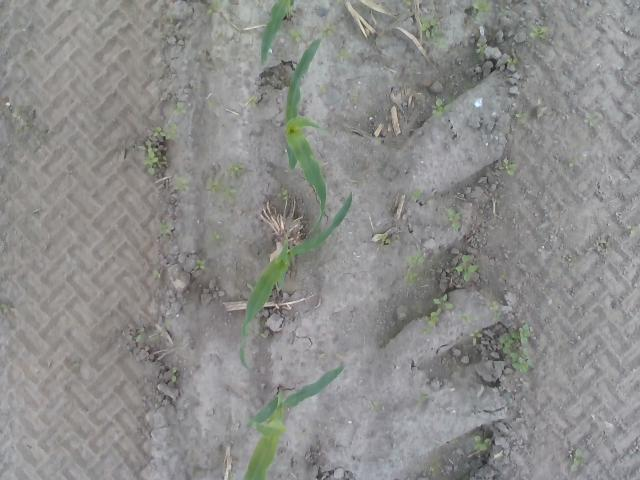Maize: (238, 192, 354, 371), (244, 362, 347, 480), (282, 36, 328, 217), (261, 0, 292, 70)
Weeds: (496, 324, 534, 373), (424, 294, 454, 335), (420, 14, 449, 49), (142, 139, 162, 176), (404, 252, 424, 287), (204, 176, 237, 196), (456, 254, 478, 282), (430, 96, 451, 119), (446, 206, 464, 232), (151, 124, 178, 140), (133, 332, 162, 346), (371, 228, 392, 246), (568, 446, 582, 472), (488, 300, 504, 322), (472, 434, 490, 452), (527, 24, 546, 40), (174, 174, 190, 192), (320, 23, 338, 39), (503, 157, 518, 176), (472, 0, 493, 13), (191, 258, 207, 272), (288, 29, 304, 42), (207, 0, 220, 16), (0, 302, 16, 314), (472, 44, 486, 57), (336, 46, 349, 60), (583, 111, 593, 129), (229, 162, 241, 176), (246, 95, 258, 109), (174, 102, 187, 114), (514, 110, 529, 120), (158, 223, 170, 235), (368, 400, 380, 412), (409, 190, 422, 201), (418, 391, 430, 402), (170, 368, 178, 384), (208, 230, 220, 240), (508, 56, 520, 66), (458, 312, 472, 320), (152, 270, 163, 280), (470, 329, 482, 338), (563, 256, 575, 264), (402, 0, 412, 7), (366, 111, 376, 117)
